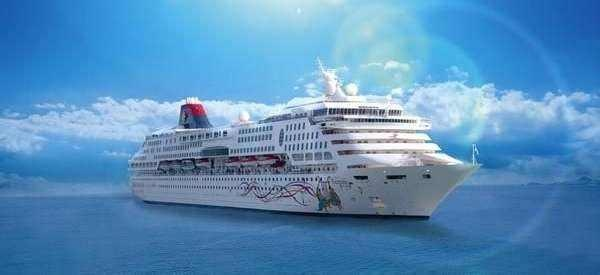youlun: (123, 70, 484, 220)
